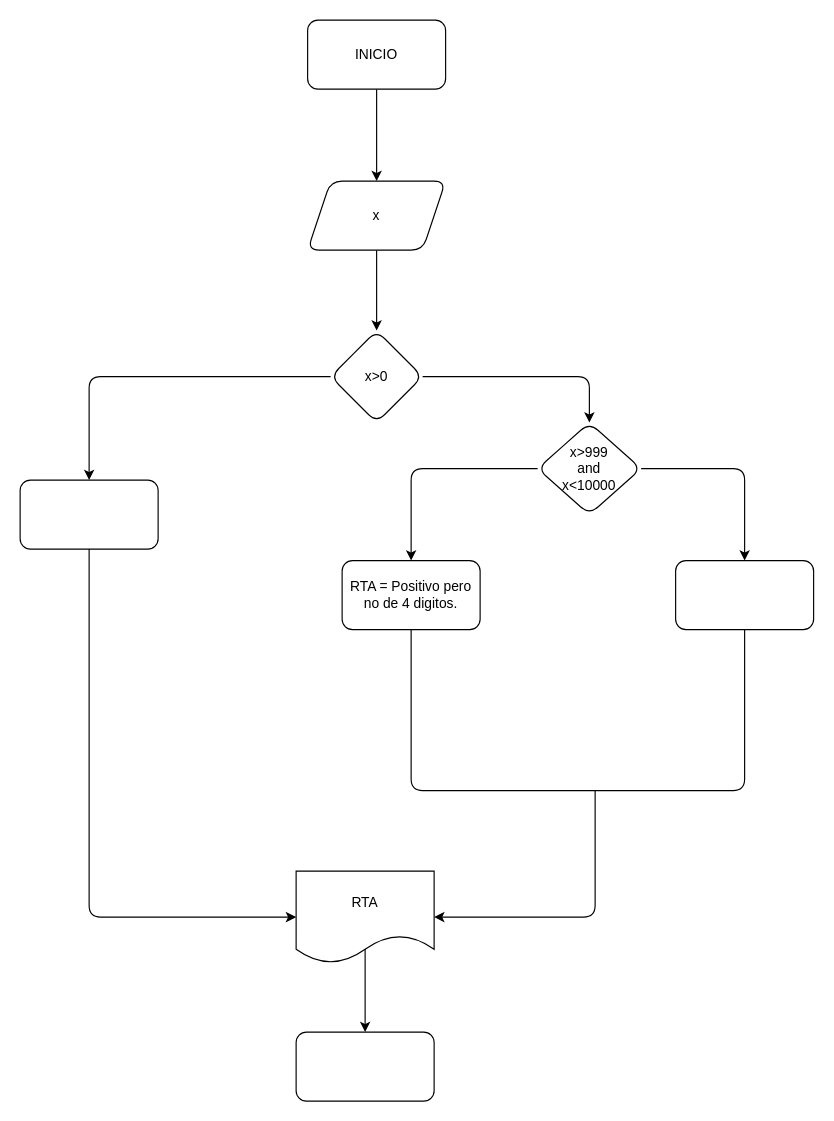
This 834x1121 diagram has some shape labels left out. The centre of each missing label's shape, as x and y in pixels:
"FIN" goes at point 364,1066.
"RTA = El numero si es positivo" goes at point 88,514.
"RTA = Positivo y de 4 digitos." goes at point 744,594.
